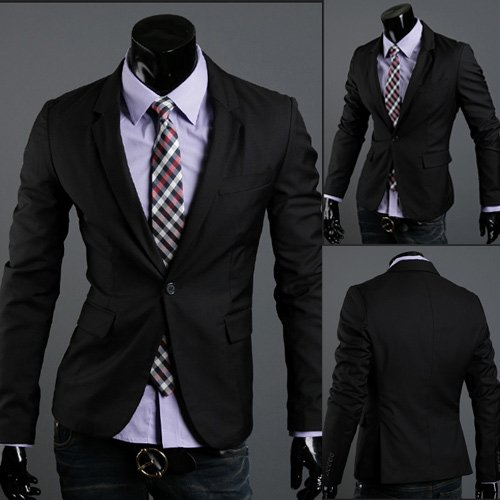F_M_suit jacket: (5, 61, 321, 449), (325, 262, 500, 476), (325, 26, 500, 212)
F_tie: (143, 100, 187, 396), (381, 42, 407, 203)
